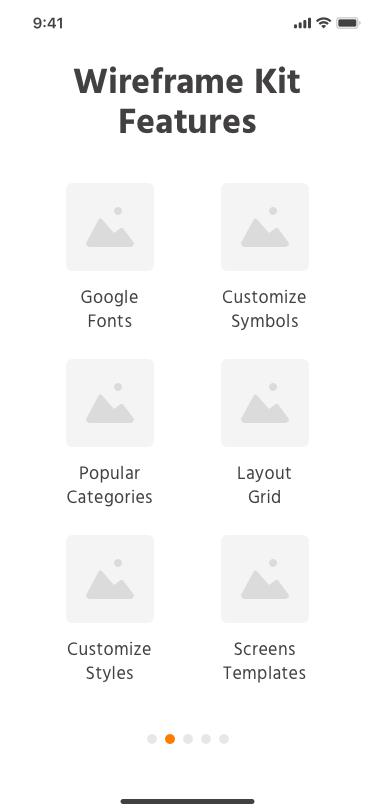Image: (221, 183, 310, 272), (221, 359, 310, 448), (221, 535, 310, 624), (67, 358, 155, 448), (67, 183, 155, 272), (67, 535, 155, 624)
PageIndicator: (146, 733, 231, 744)
Text: (74, 66, 301, 136), (67, 640, 152, 684), (67, 465, 153, 508), (222, 289, 306, 332), (223, 641, 306, 684), (81, 290, 140, 329), (237, 465, 293, 504)
UpperTaskBar: (34, 16, 362, 30)
